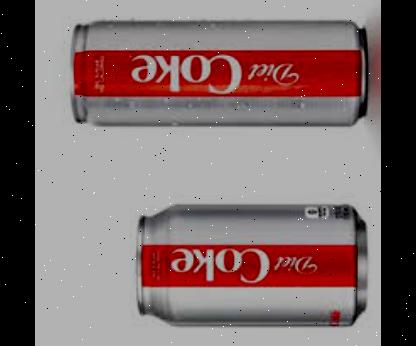Can: (71, 19, 370, 127), (138, 205, 368, 325)
